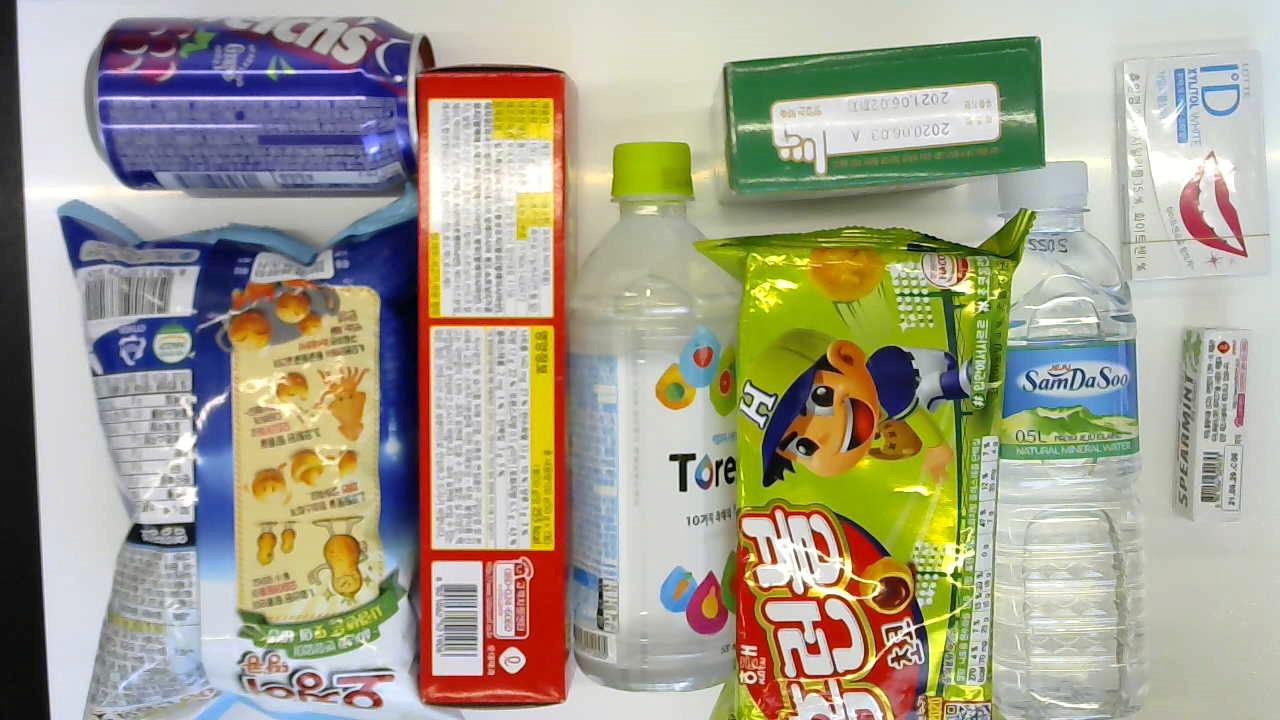ID_gum: (1112, 47, 1275, 287)
couque_coffee: (716, 30, 1049, 208)
homerunball: (698, 213, 1027, 720)
samdasu: (569, 129, 745, 695), (973, 153, 1140, 720)
spearmint: (1170, 323, 1253, 521)
squid_peanut: (54, 198, 461, 720)
welchs: (84, 12, 436, 203)
zec: (410, 62, 575, 710)
